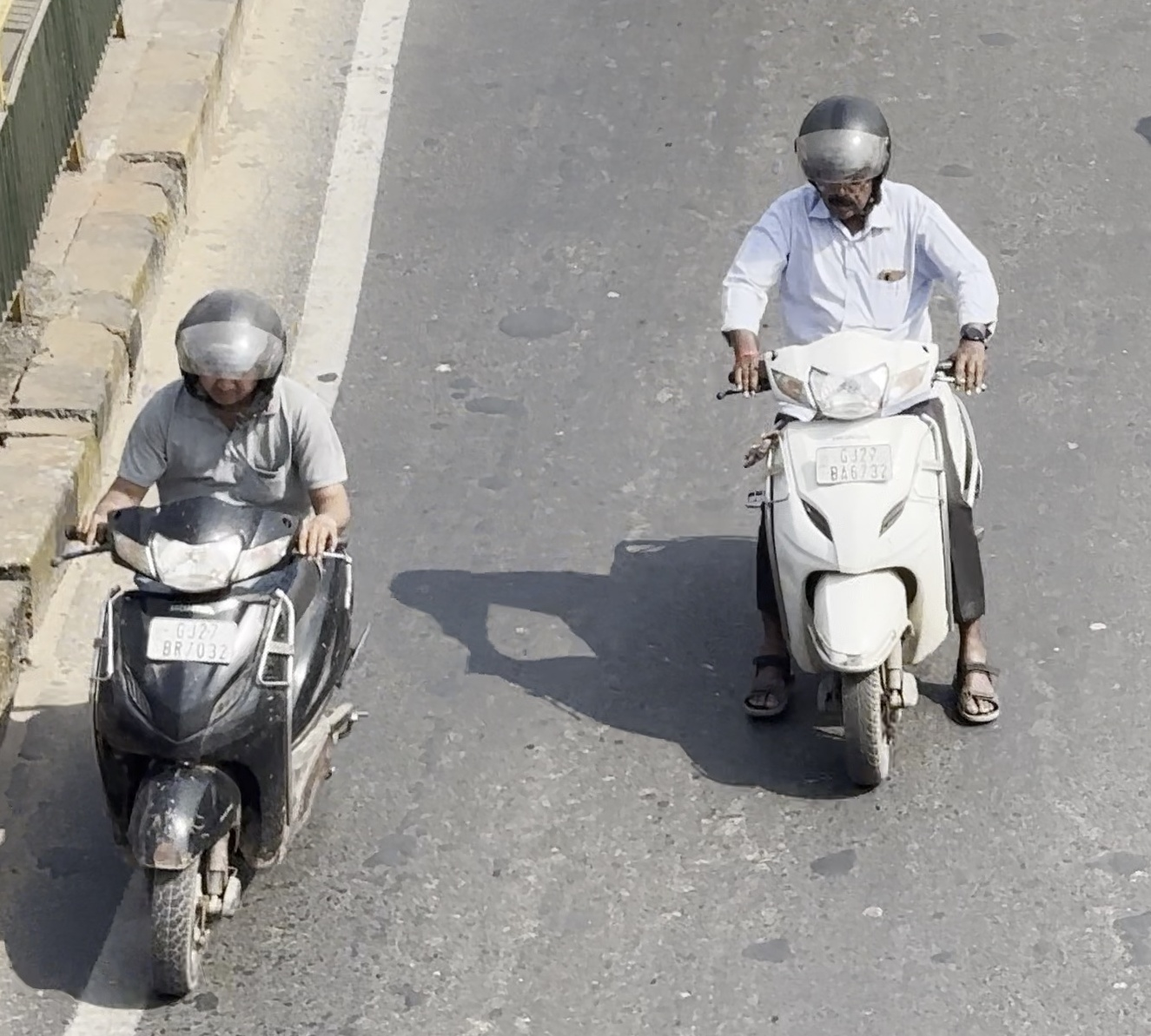BikeWithRider: (42, 276, 361, 1003), (712, 87, 1009, 791)
Helmet: (170, 278, 296, 424), (788, 89, 900, 227)
